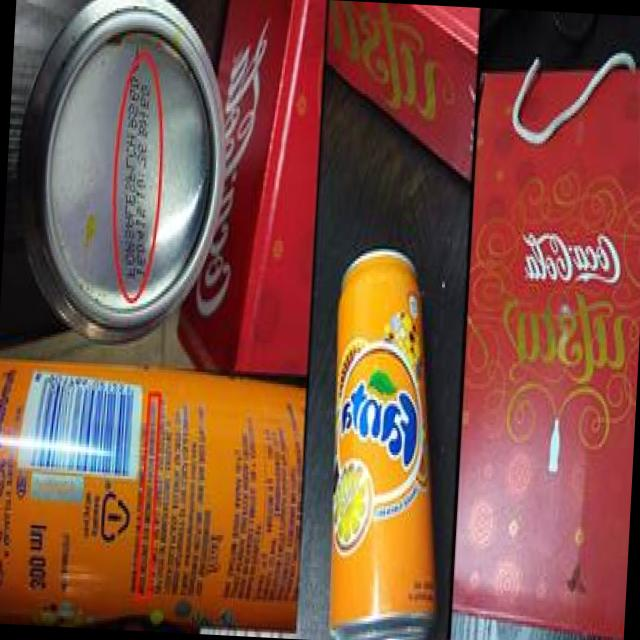fanta: (316, 241, 450, 629)
